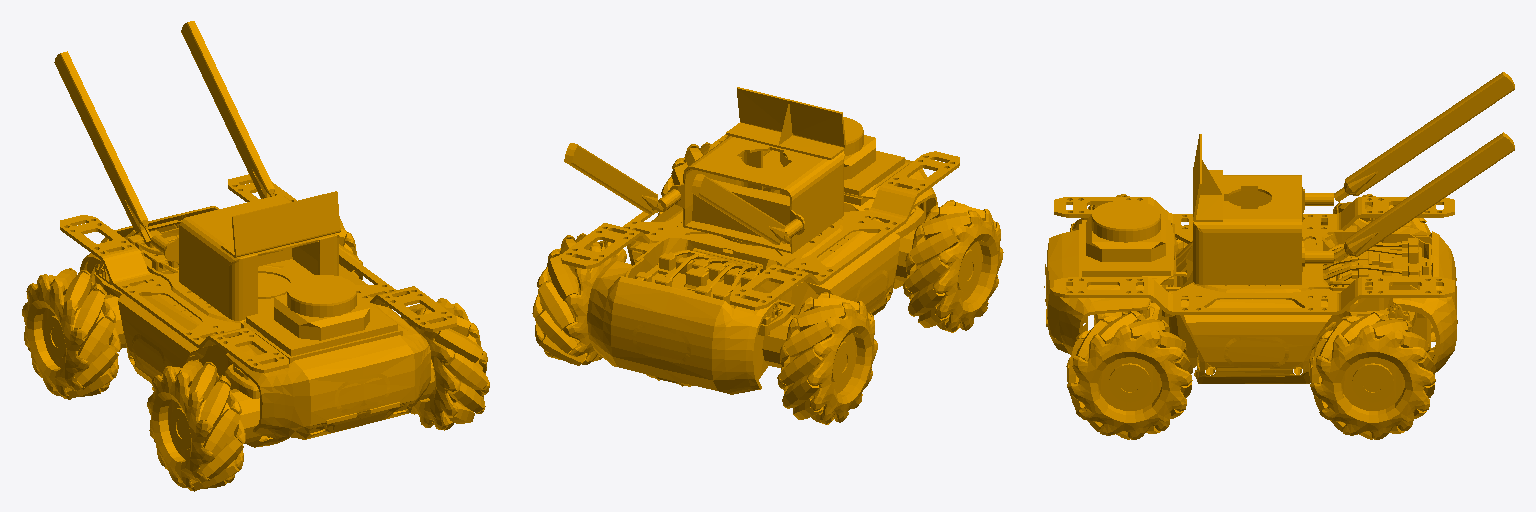
robot.urdf — converted_robot:
<?xml version="1.0"?>
<robot name="converted_robot">
  <link name="base_link">
    <visual>
      <geometry>
        <mesh filename="untitled.stl" scale="1 1 1"/>
      </geometry>
    </visual>
    <collision>
      <geometry>
        <mesh filename="untitled.stl" scale="1 1 1"/>
      </geometry>
    </collision>
    <inertial>
      <mass value="1.0"/>
      <inertia ixx="0.1" ixy="0.0" ixz="0.0" iyy="0.1" iyz="0.0" izz="0.1"/>
    </inertial>
  </link>
</robot>

--- What the picture shows (computed from the rendered views, not written in the file) ---
The picture shows the robot from 3 angles, left to right: view 1: azimuth 30°, elevation 25°; view 2: azimuth 150°, elevation 25°; view 3: azimuth 270°, elevation 25°; orthographic projection.
Robot: converted_robot — 1 links, 0 joints (none); root link base_link; default pose: every joint at zero.
Visible links, largest first — view 1: base_link; view 2: base_link; view 3: base_link.
Boxes of the visible links, left/top/right/bottom form: base_link: left=22, top=21, right=489, bottom=491; base_link: left=532, top=87, right=1003, bottom=424; base_link: left=1044, top=72, right=1514, bottom=439.
Bounding box of the posed robot: 0.2587 × 0.3657 × 0.2334 m (x, y, z).
1 mesh visuals loaded from 1 distinct referenced files (1 binary STL).